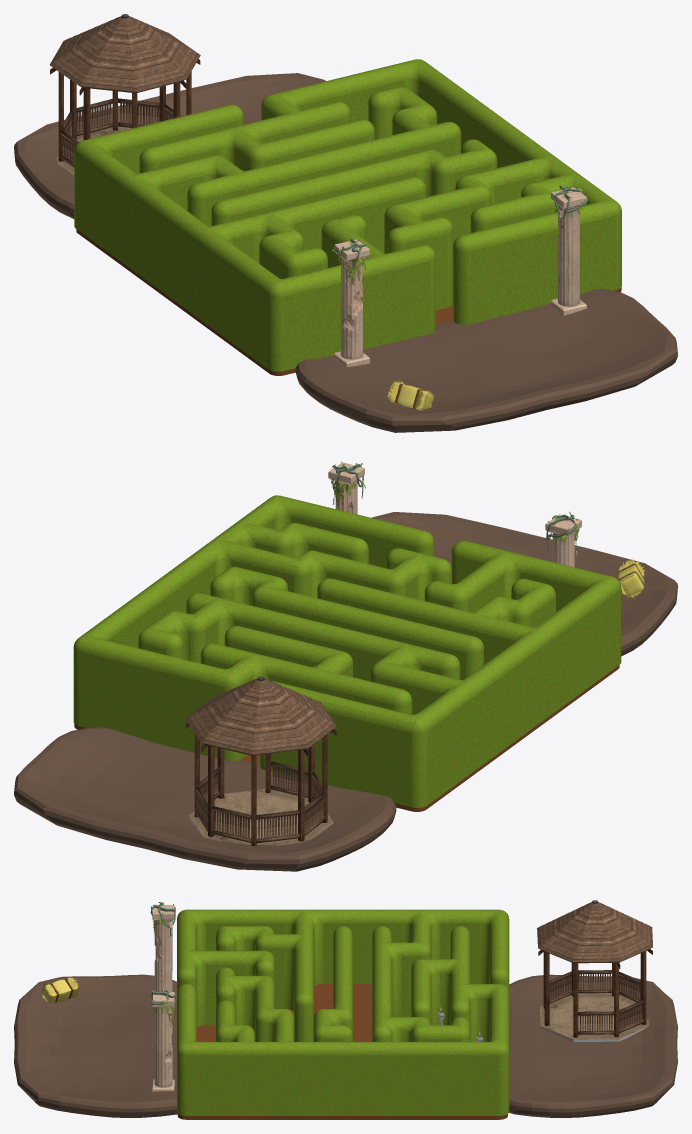
File: simple-maze_02.glb
3 views of the same model, one above another, from view 1: azimuth 30°, elevation 25°; view 2: azimuth 150°, elevation 25°; view 3: azimuth 270°, elevation 25° (orthographic). The views are drawn at different scales.
Visible parts, largest first — view 1: Plane, Cube.001, Object_2, Cube, Object_3, PillarMain_aiStandardSurface1_0.001, PillarMain, Plane.001, pCube1; view 2: Plane, Cube, Object_2, Cube.001, Object_3, Plane.001, PillarMain, pCube1; view 3: Plane, Cube.001, Cube, Object_2, Plane.001, Object_3, PillarMain_aiStandardSurface1_0.001, PillarMain, pCube1.
Boxes of the visible parts, x1,y1,x2,y2 form: Plane: (74,59,621,371); Cube.001: (295,289,677,432); Object_2: (50,16,200,175); Cube: (14,73,325,218); Object_3: (58,14,191,163); PillarMain_aiStandardSurface1_0.001: (558,205,579,306); PillarMain: (341,257,362,359); Plane.001: (76,229,621,375); pCube1: (388,382,432,410); Plane: (73,495,621,807); Cube: (14,727,396,871); Object_2: (185,678,336,845); Cube.001: (371,512,677,656); Object_3: (194,676,327,846); Plane.001: (74,665,619,811); PillarMain: (552,532,574,567); pCube1: (618,561,644,596); Plane: (177,909,509,1115); Cube.001: (14,974,177,1117); Cube: (509,974,677,1117); Object_2: (537,901,652,1041); Plane.001: (177,984,507,1119); Object_3: (543,900,646,1037); PillarMain_aiStandardSurface1_0.001: (154,1007,172,1087); PillarMain: (154,920,172,991); pCube1: (42,977,77,1003).
Bounding box in the file's own units: 38.99 × 16.92 × 78.05.
27 materials, 7 textured.
